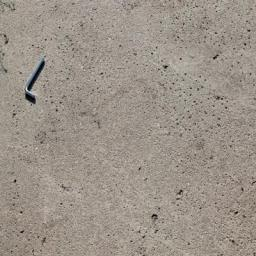FOD: (22, 56, 54, 103)
